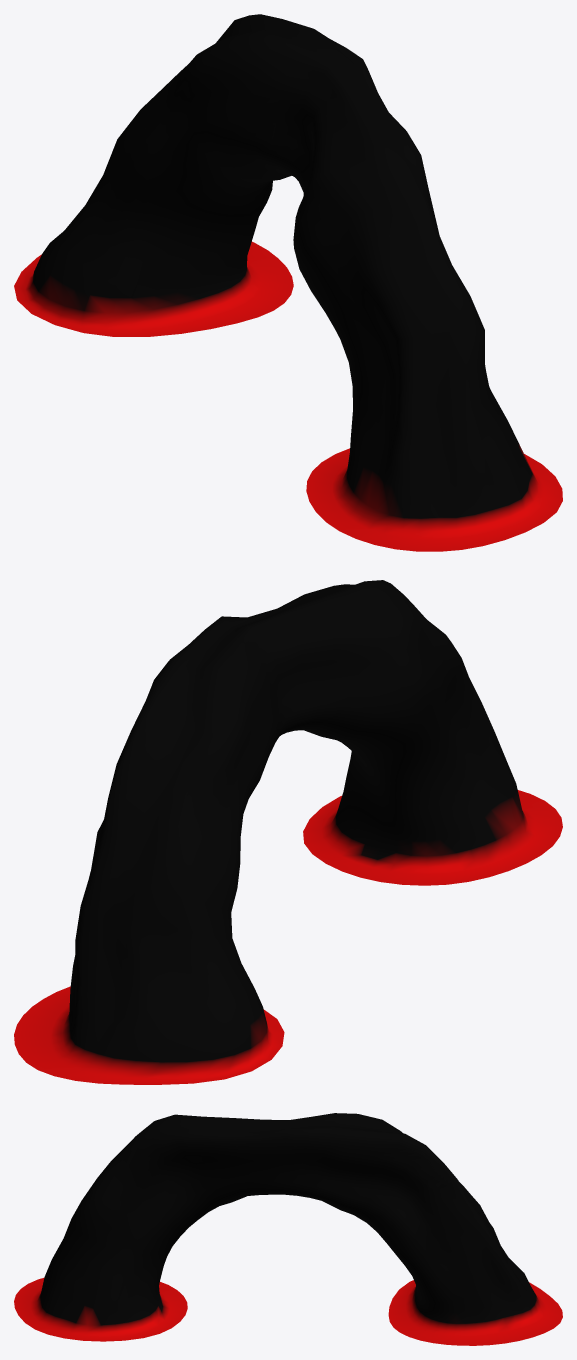
Rendered from GroundObject01C.fbx.
The picture shows the model from 3 angles, top to bottom: view 1: azimuth 30°, elevation 25°; view 2: azimuth 150°, elevation 25°; view 3: azimuth 270°, elevation 25°; orthographic projection. The views are drawn at different scales.
Parts seen in each view (by area): view 1: GroundObject01C; view 2: GroundObject01C; view 3: GroundObject01C.
Boxes of the visible parts, bbox=[...] form: GroundObject01C: bbox=[14, 14, 562, 551]; GroundObject01C: bbox=[14, 580, 562, 1084]; GroundObject01C: bbox=[14, 1113, 562, 1345].
Size of the model in its own units: 1.88 by 2.31 by 5.69.
